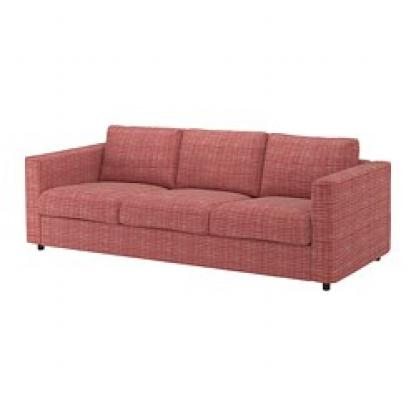Sofa: (17, 90, 396, 306)
